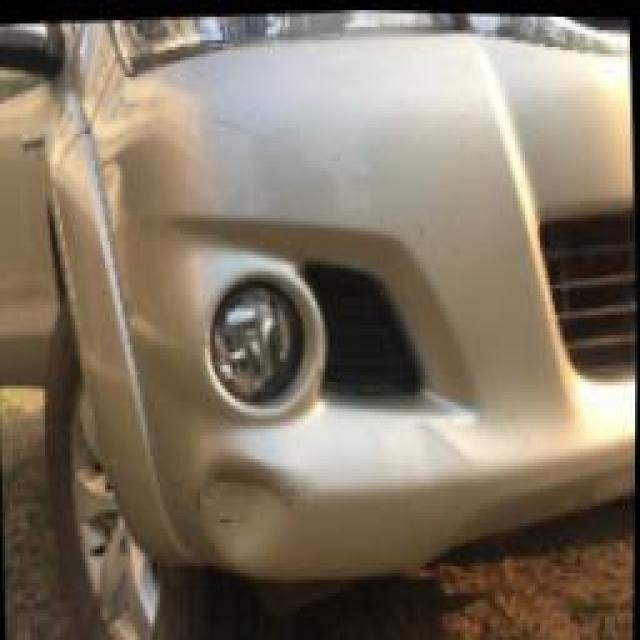Bumper: (108, 385, 562, 594)
